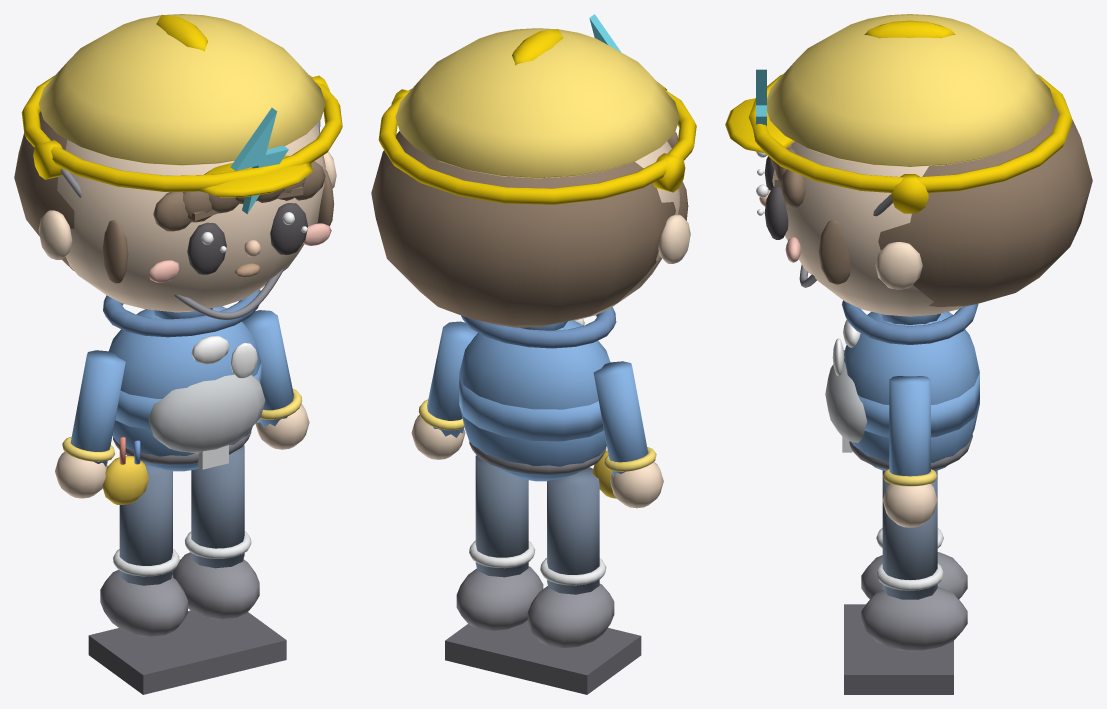
Rendered from electric_worker.glb.
3 views of the same model, side by side, from view 1: azimuth 30°, elevation 25°; view 2: azimuth 150°, elevation 25°; view 3: azimuth 270°, elevation 25° (orthographic).
Visible parts, largest first — view 1: helmet, face, torso, chest, helmetrim, sole.-1, leg.1, leg.-1, sole.1, boot.-1, arm.-1, boot.1 (+28 smaller); view 2: haircap, helmet, torso, helmetrim, leg.-1, leg.1, sole.-1, boot.-1, boot.1, arm.-1, sole.1, arm.1 (+13 smaller); view 3: helmet, haircap, face, torso, helmetrim, sole.1, boot.1, arm.1, leg.1, collar, chest, hand.1 (+13 smaller).
Part boxes in pixels (x1,y1,x2,y2): helmet: [39, 14, 325, 165]; face: [57, 125, 325, 312]; torso: [109, 306, 261, 471]; chest: [148, 374, 265, 453]; helmetrim: [21, 75, 342, 191]; sole.-1: [88, 628, 214, 694]; leg.1: [191, 445, 244, 568]; leg.-1: [119, 464, 172, 585]; sole.1: [176, 610, 286, 677]; boot.-1: [100, 570, 187, 636]; arm.-1: [70, 350, 125, 466]; boot.1: [172, 552, 259, 619]; haircap: [371, 131, 675, 327]; helmet: [395, 28, 679, 178]; torso: [459, 320, 610, 481]; helmetrim: [378, 89, 696, 204]; leg.-1: [547, 467, 599, 594]; leg.1: [475, 455, 528, 577]; sole.-1: [516, 628, 641, 694]; boot.-1: [527, 583, 614, 648]; boot.1: [456, 566, 543, 631]; arm.-1: [593, 361, 648, 477]; sole.1: [445, 620, 538, 677]; arm.1: [427, 321, 477, 437]; helmet: [767, 14, 1054, 166]; haircap: [878, 105, 1092, 306]; face: [772, 141, 963, 316]; torso: [844, 311, 979, 471]; helmetrim: [748, 74, 1072, 192]; sole.1: [844, 639, 953, 694]; boot.1: [861, 587, 967, 651]; arm.1: [889, 376, 930, 483]; leg.1: [882, 478, 937, 599]; collar: [842, 300, 978, 344]; chest: [825, 350, 867, 442]; hand.1: [882, 483, 937, 527].
Bounding box in the file's own units: 1.53 × 3.19 × 1.67.
